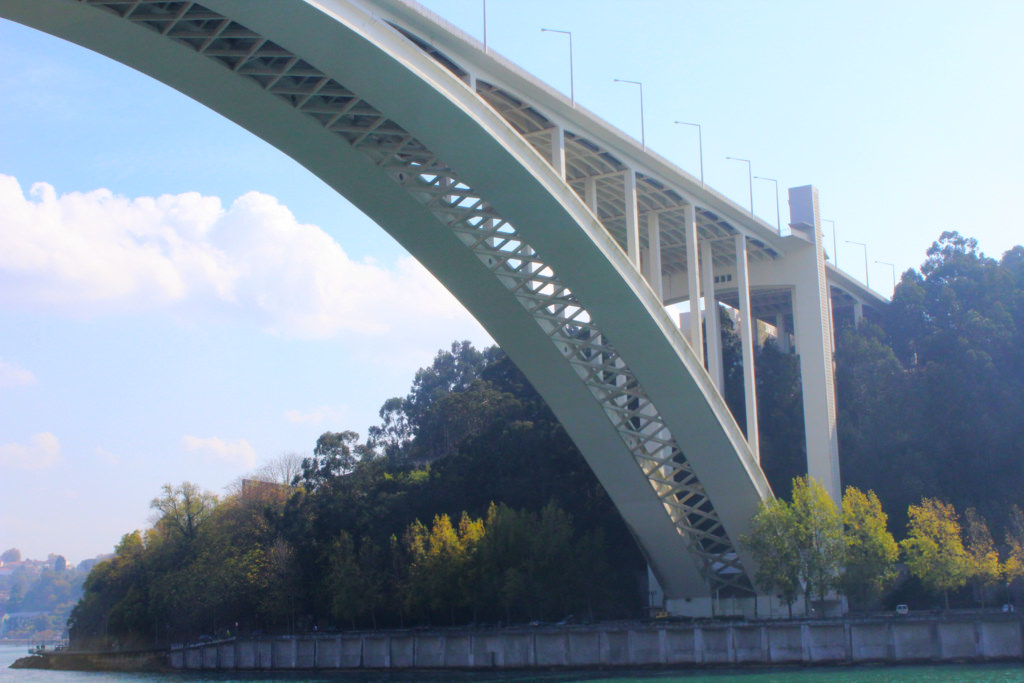arrabida: (0, 0, 891, 631)
